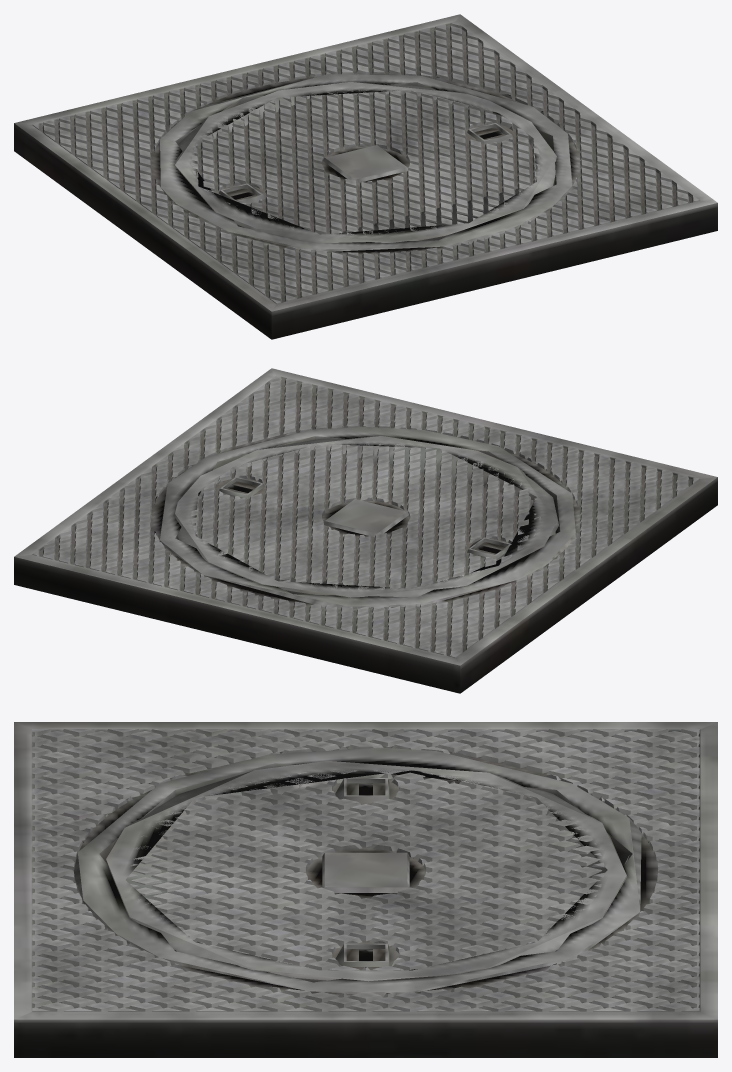
Rendered from p_manhole.glb.
The picture shows the model from 3 angles, top to bottom: view 1: azimuth 30°, elevation 25°; view 2: azimuth 150°, elevation 25°; view 3: azimuth 270°, elevation 25°; orthographic projection. The views are drawn at different scales.
Visible parts, largest first — view 1: manhole-cover_body; view 2: manhole-cover_body; view 3: manhole-cover_body.
Boxes of the visible parts, x1,y1,x2,y2 form: manhole-cover_body: (14,14,717,339); manhole-cover_body: (14,368,717,693); manhole-cover_body: (14,722,717,1057).
Size of the model in its own units: 0.7979 by 0.0489 by 0.7979.
Materials: 1 (1 with a texture image).
